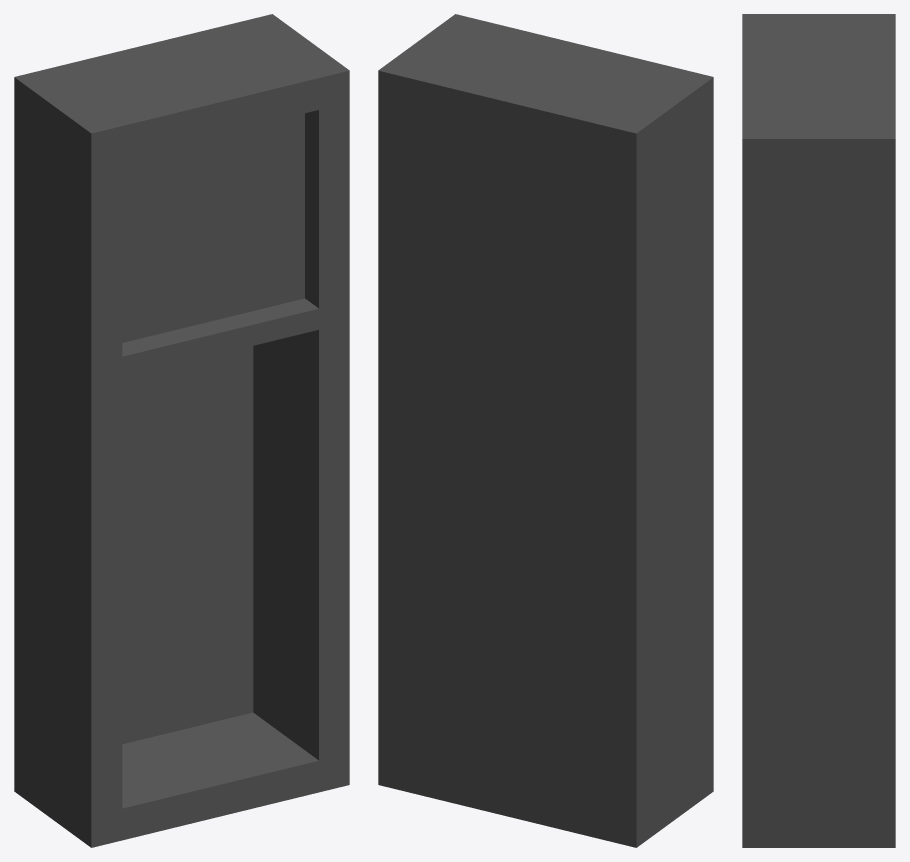
The model's file is Itr_Obj_Grandfatherclock2_Body_04.FBX.
The picture shows the model from 3 angles, left to right: view 1: azimuth 30°, elevation 25°; view 2: azimuth 150°, elevation 25°; view 3: azimuth 270°, elevation 25°; orthographic projection.
Visible parts, largest first — view 1: Itr_Obj_Grandfatherclock2_Body_04; view 2: Itr_Obj_Grandfatherclock2_Body_04; view 3: Itr_Obj_Grandfatherclock2_Body_04.
Boxes of the visible parts, x1,y1,x2,y2 form: Itr_Obj_Grandfatherclock2_Body_04: [14, 14, 349, 847]; Itr_Obj_Grandfatherclock2_Body_04: [378, 14, 713, 847]; Itr_Obj_Grandfatherclock2_Body_04: [742, 14, 895, 847].
Bounding box in the file's own units: 20.58 × 54.37 × 10.67.
